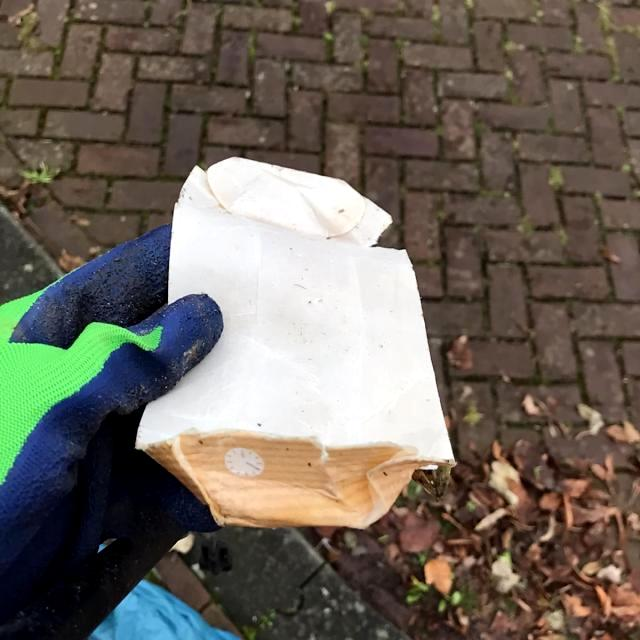Paper: (132, 155, 458, 533)
